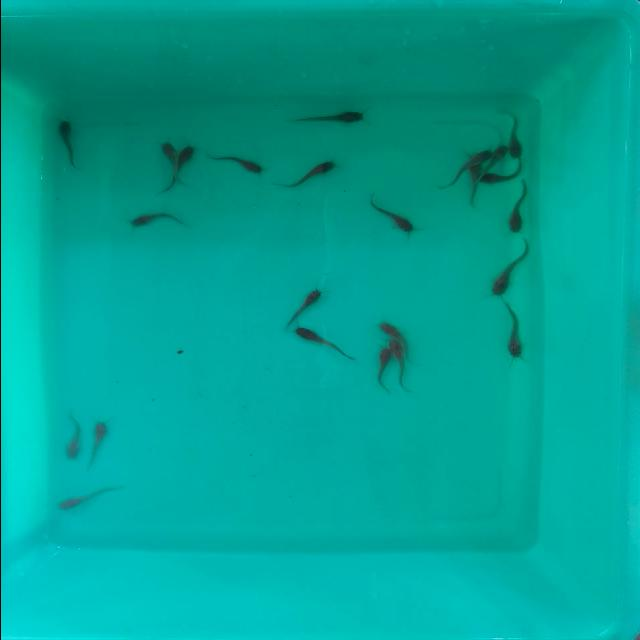lele: (484, 238, 534, 298), (434, 147, 494, 192), (296, 322, 358, 364), (362, 194, 418, 237), (280, 285, 324, 329), (278, 156, 334, 188), (59, 484, 118, 510), (53, 118, 80, 173), (207, 152, 263, 178), (504, 179, 530, 234), (504, 303, 524, 361), (478, 143, 510, 177), (290, 111, 366, 125), (479, 166, 526, 187), (130, 212, 188, 229), (389, 340, 406, 396), (177, 142, 197, 188), (88, 420, 106, 470), (160, 142, 177, 190), (508, 110, 524, 160), (374, 346, 390, 396), (65, 408, 81, 458), (466, 164, 481, 212), (379, 322, 413, 339)
